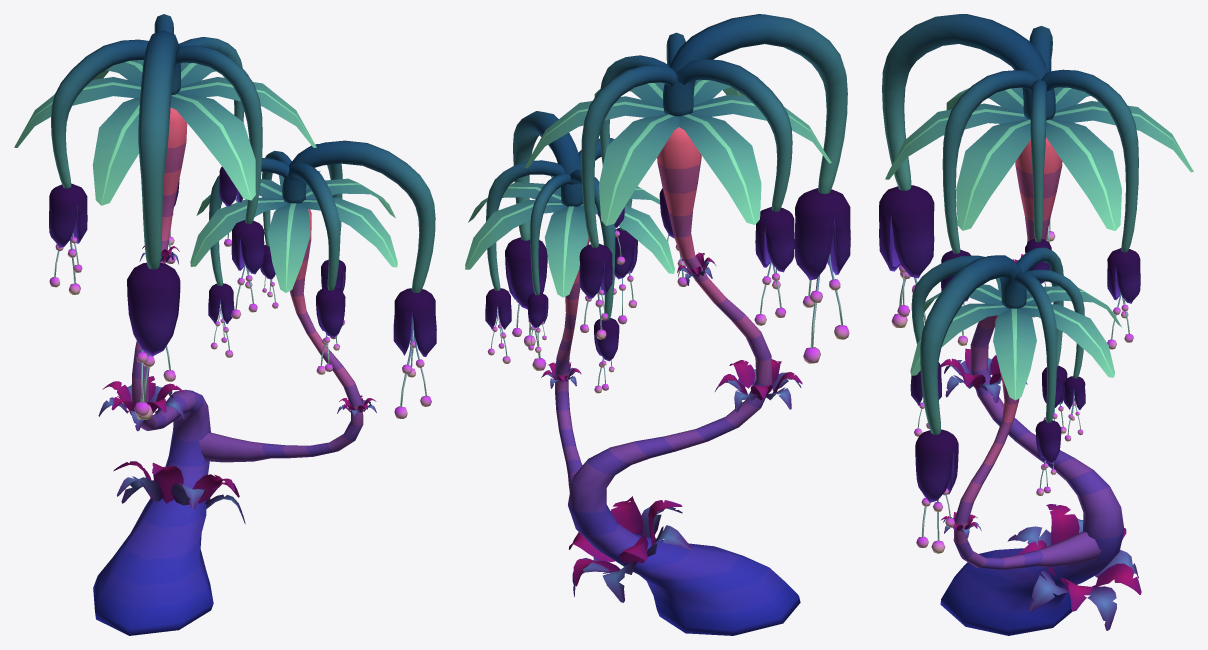
The model's file is anp_tree_7.fbx.
3 views of the same model, side by side, from view 1: azimuth 30°, elevation 25°; view 2: azimuth 150°, elevation 25°; view 3: azimuth 270°, elevation 25° (orthographic). The views are drawn at different scales.
Parts seen in each view (by area): view 1: t7; view 2: t7; view 3: t7.
Boxes of the visible parts, x1,y1,x2,y2 form: t7: (14, 14, 436, 635); t7: (465, 14, 850, 635); t7: (879, 14, 1193, 635).
Size of the model in its own units: 356 by 590 by 286.
